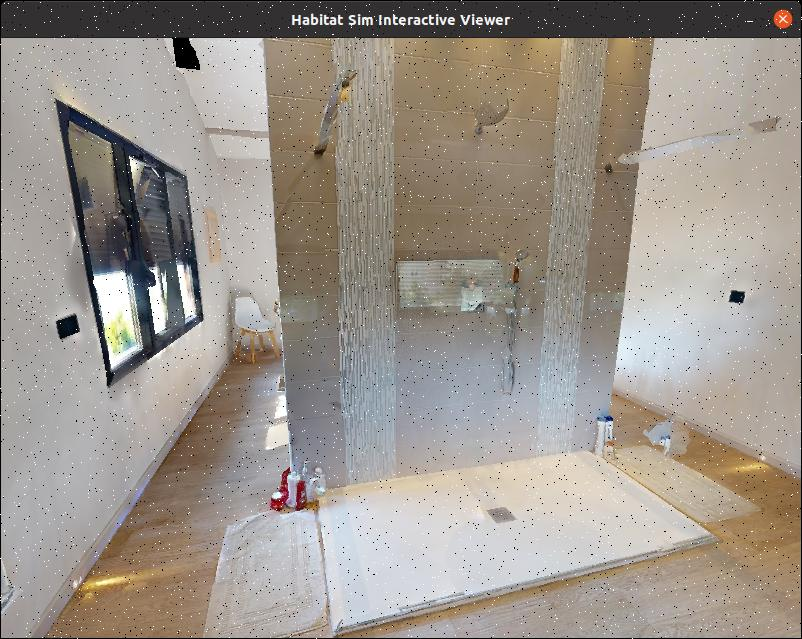shower: (295, 53, 693, 558)
